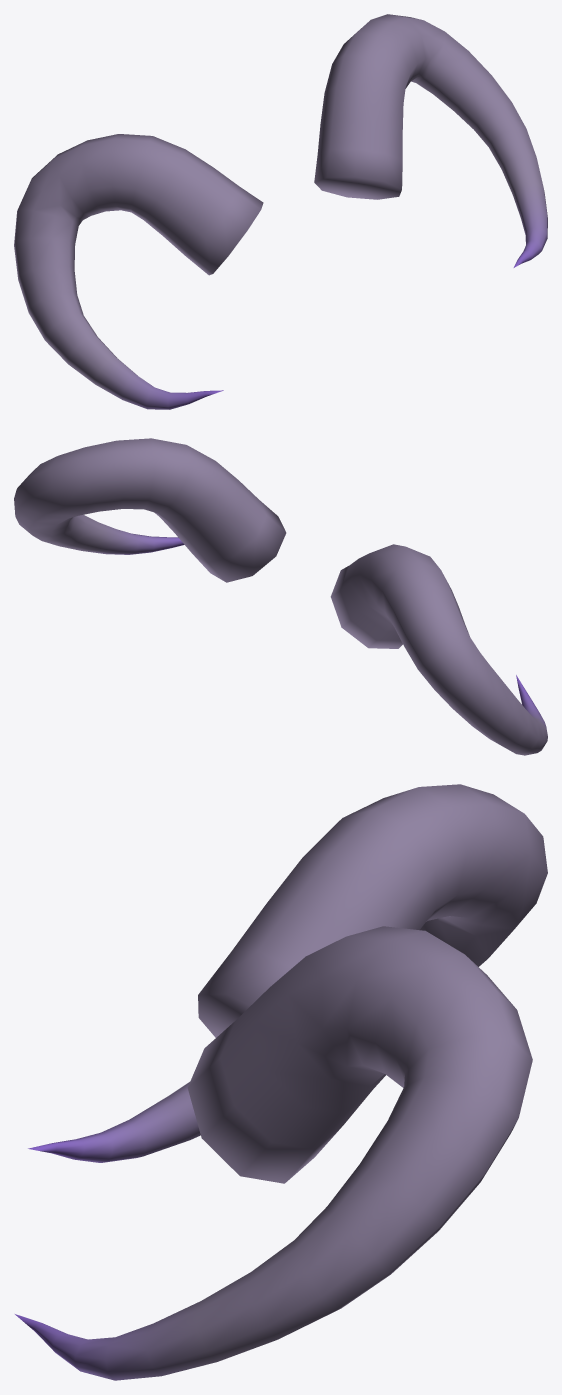
File: dark_fear_parts.glb
3 views of the same model, one above another, from view 1: azimuth 30°, elevation 25°; view 2: azimuth 150°, elevation 25°; view 3: azimuth 270°, elevation 25° (orthographic). The views are drawn at different scales.
Parts seen in each view (by area): view 1: r0_CC_Base_Head; view 2: r0_CC_Base_Head; view 3: r0_CC_Base_Head.
Boxes of the visible parts, x1,y1,x2,y2 form: r0_CC_Base_Head: (14, 14, 547, 409); r0_CC_Base_Head: (14, 438, 547, 755); r0_CC_Base_Head: (15, 784, 547, 1380).
Bounding box in the file's own units: 0.8621 × 0.4351 × 0.424.
